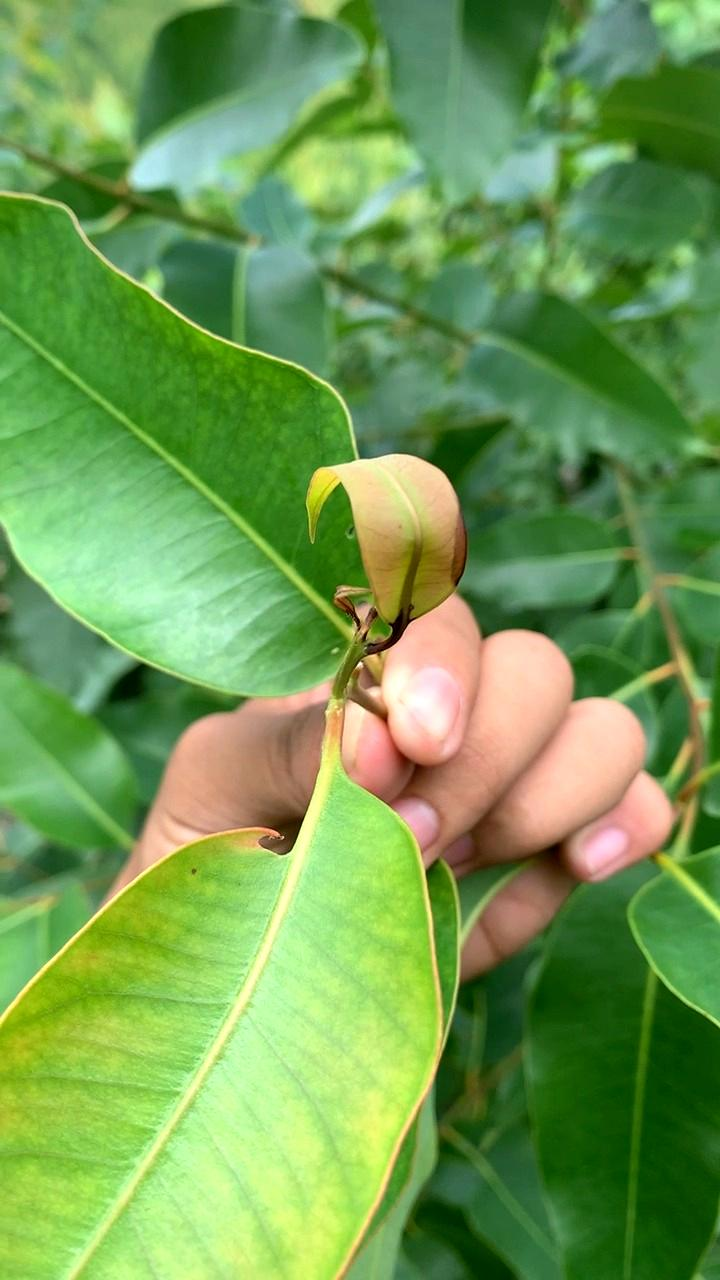Helopeltis-Withered Sprout: (296, 448, 471, 636)
